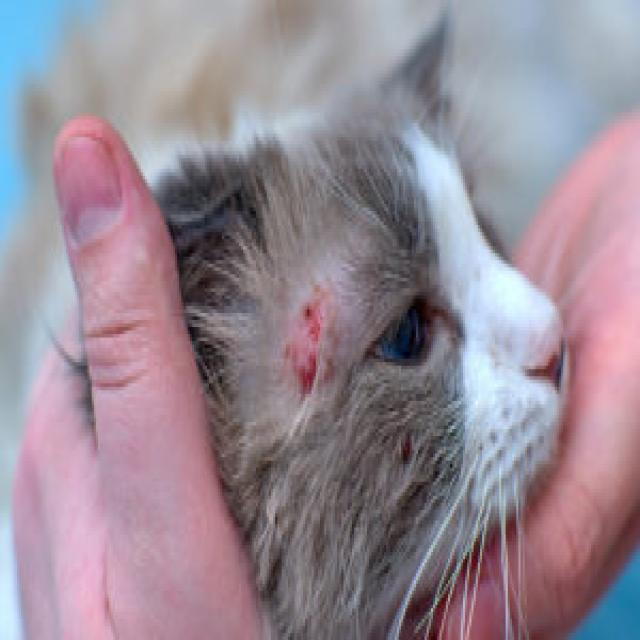hac lao: (250, 272, 372, 428)
